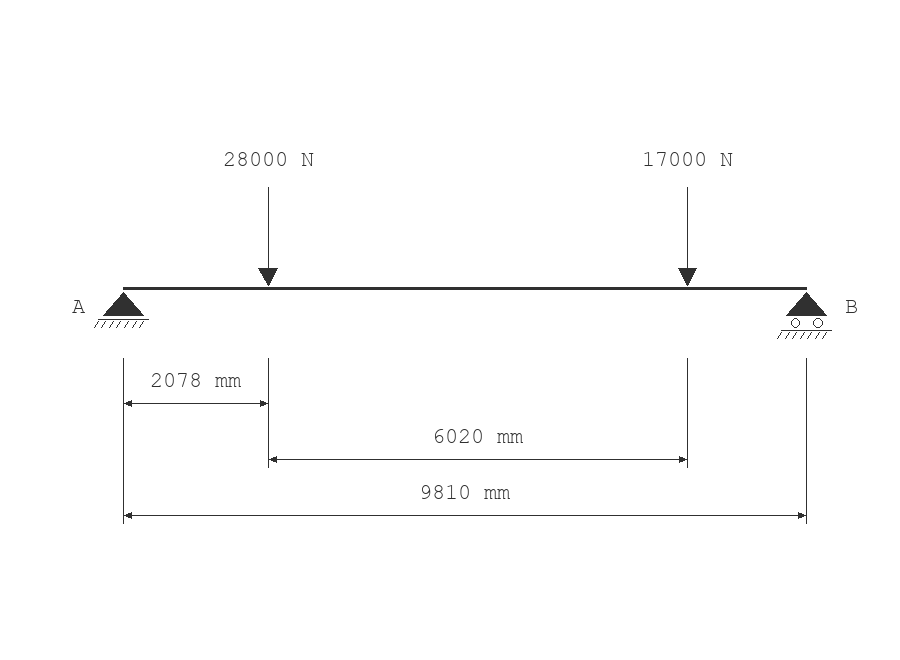pin_support: (94, 292, 149, 328)
point_load: (258, 187, 278, 286), (678, 187, 697, 286)
roller_support: (777, 292, 832, 339)
